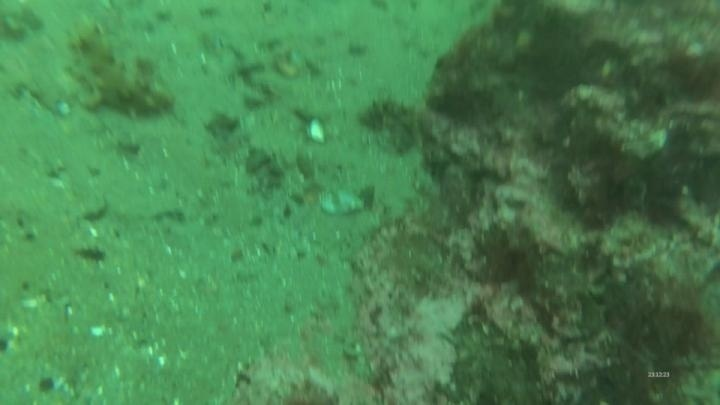holothurian: (65, 22, 177, 123), (357, 92, 424, 156)
